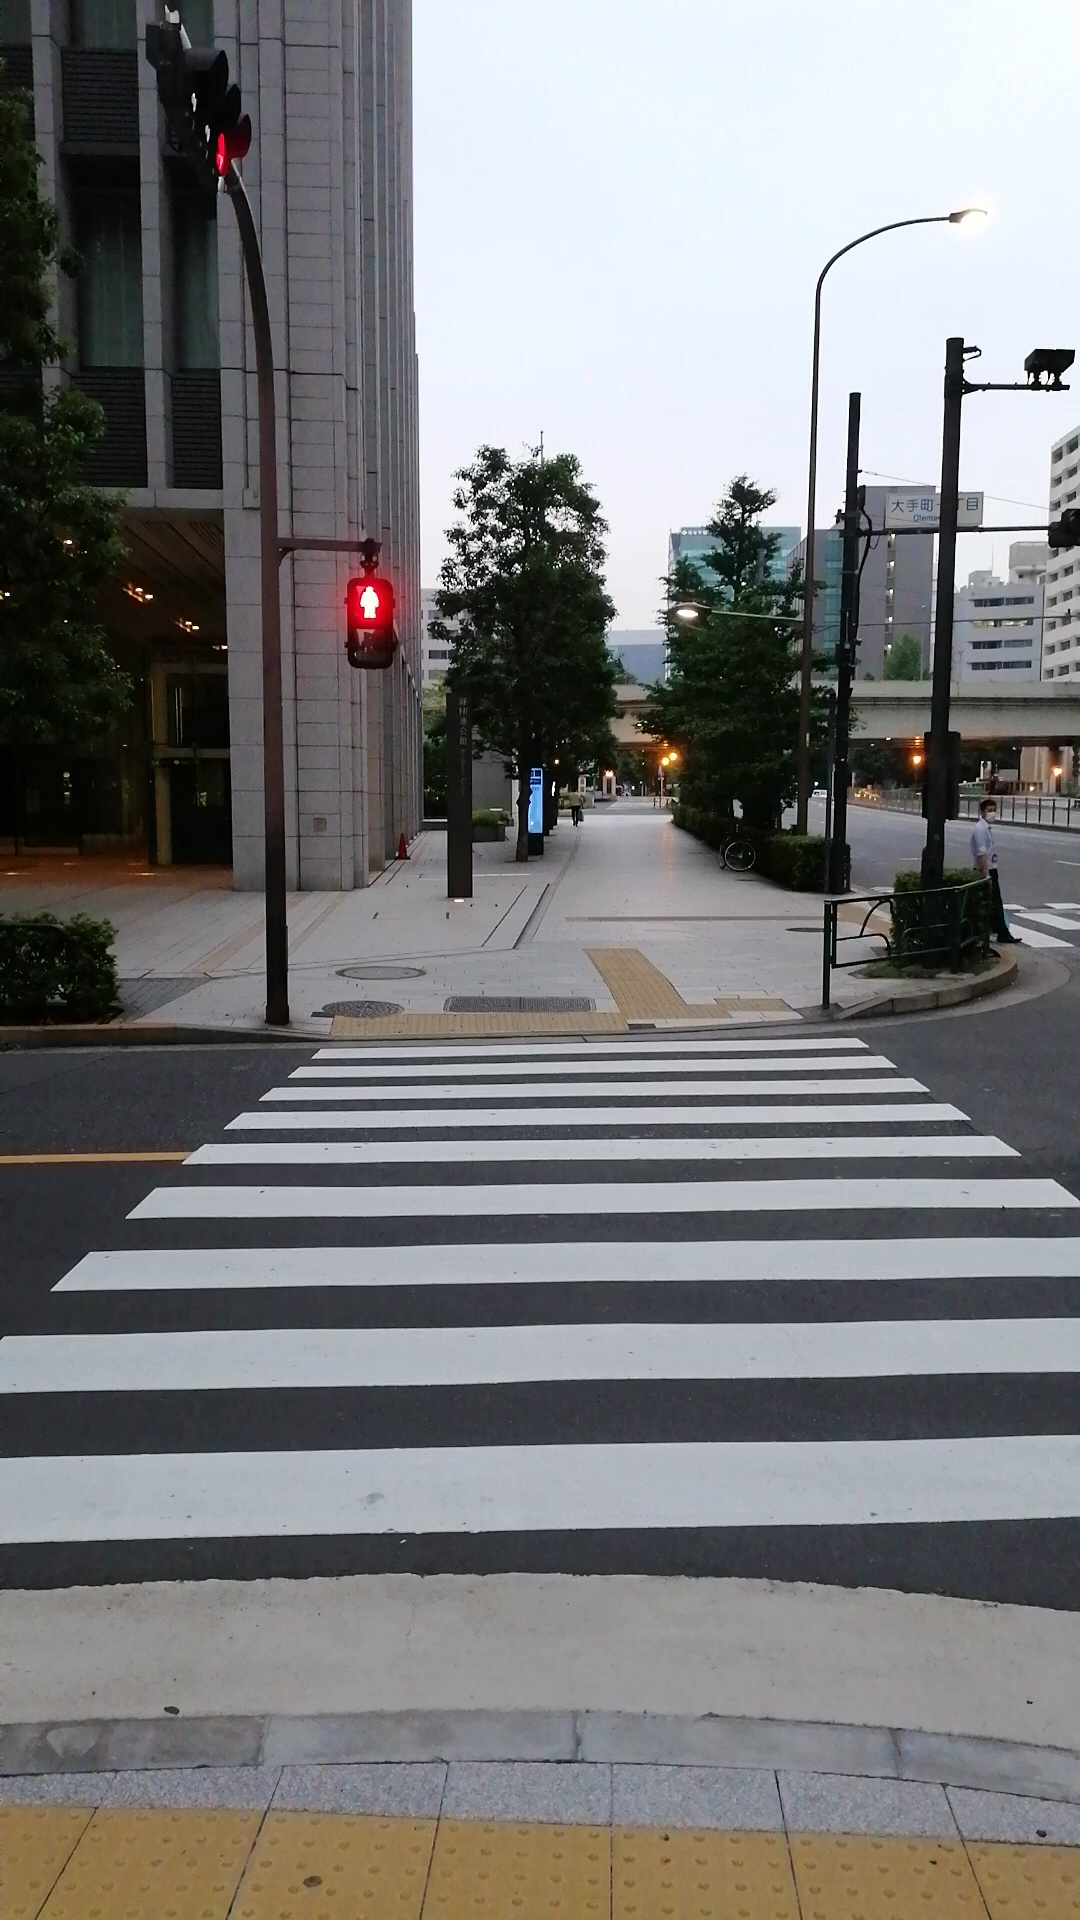red: (343, 575, 400, 673)
